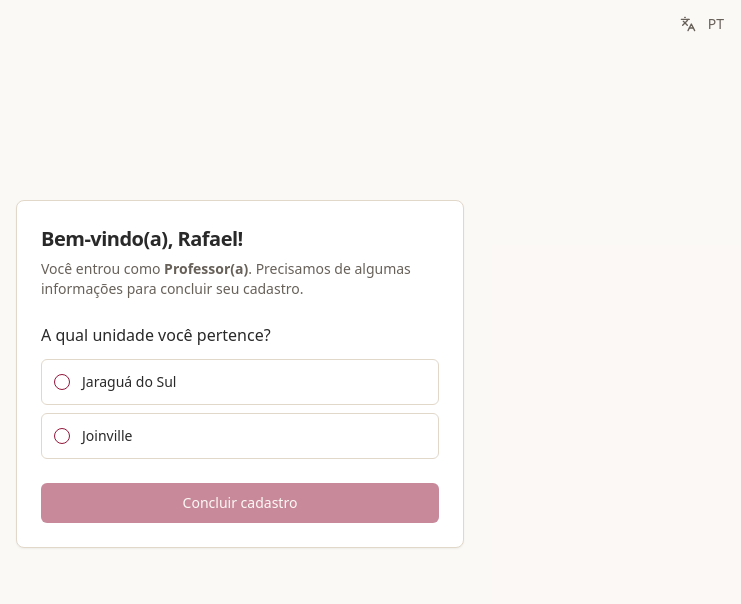
it: Onboarding › avisa quando o envio falha, sem sair da tela
Click the text "Jaraguá do Sul" at (129, 382), box [82,372,176,392]
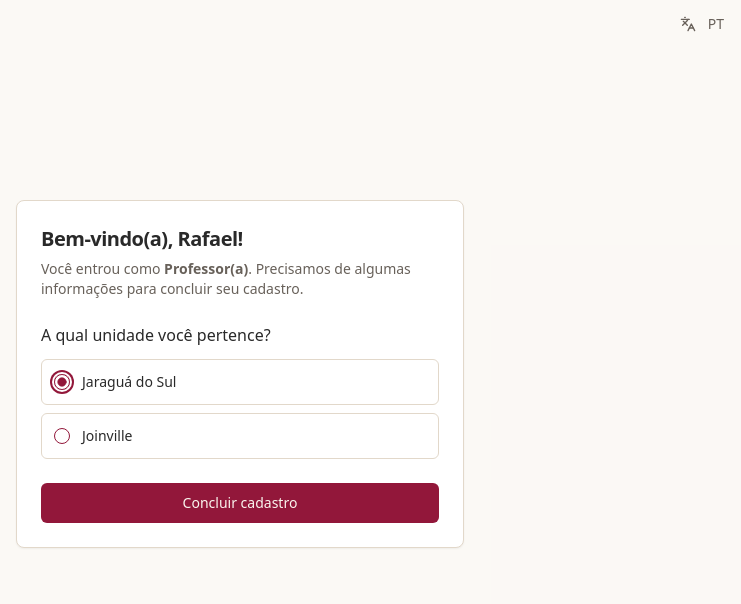
Click the button "Concluir cadastro" at (240, 503), box [41,483,439,523]
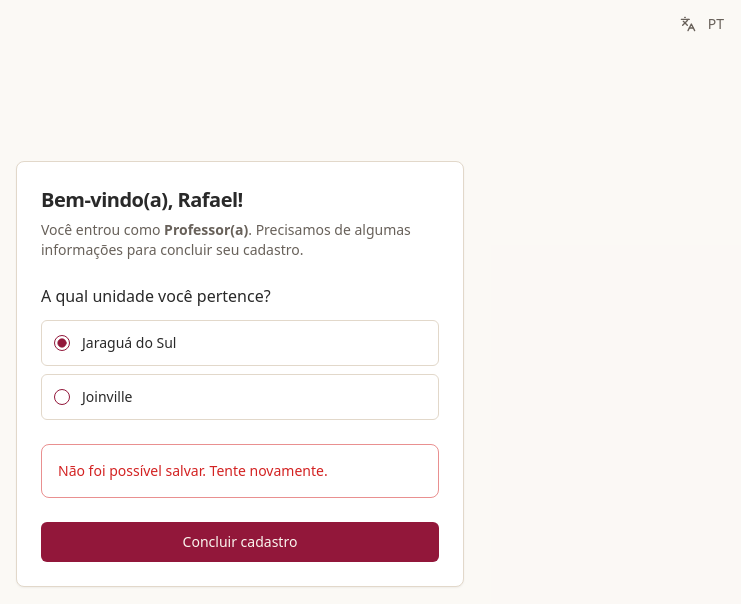
Now the message "Não foi possível salvar. Tente novamente." is shown, box [41,444,439,498]
